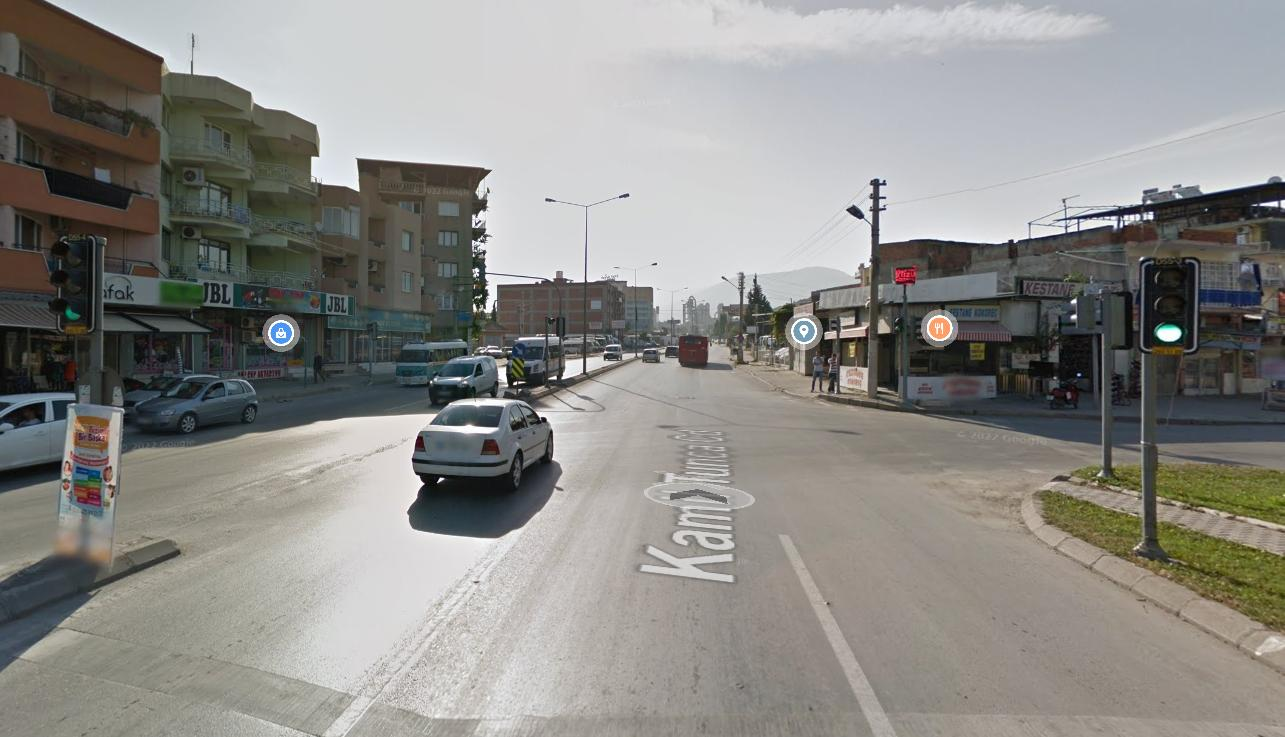greenlight: (1145, 261, 1196, 347), (52, 237, 93, 325)
